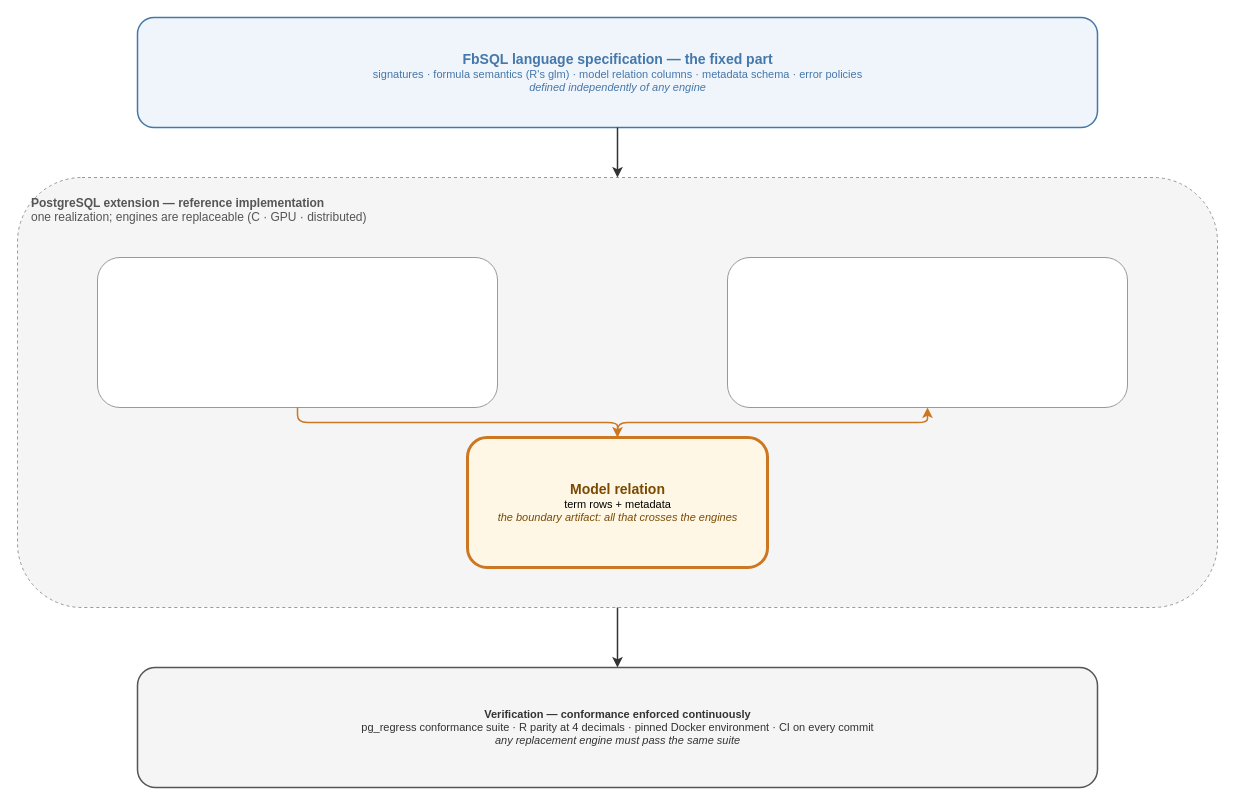
This 1235x806 diagram has some shape labels left out. The shapes that lost their labels are listed below. From the top down, each one's centre as x and y in pixels, then its label:
At pixel 297 332: "fit_glm() PL/R → stats::glm() R as internal engine (never exposed to the user)".
At pixel 927 332: "predict_glm() PL/pgSQL — no R computes from the model relation alone".
